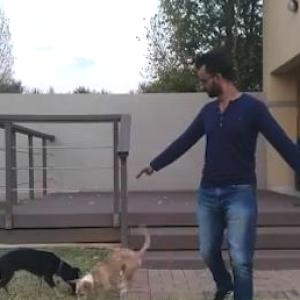land: (104, 25, 298, 299)
